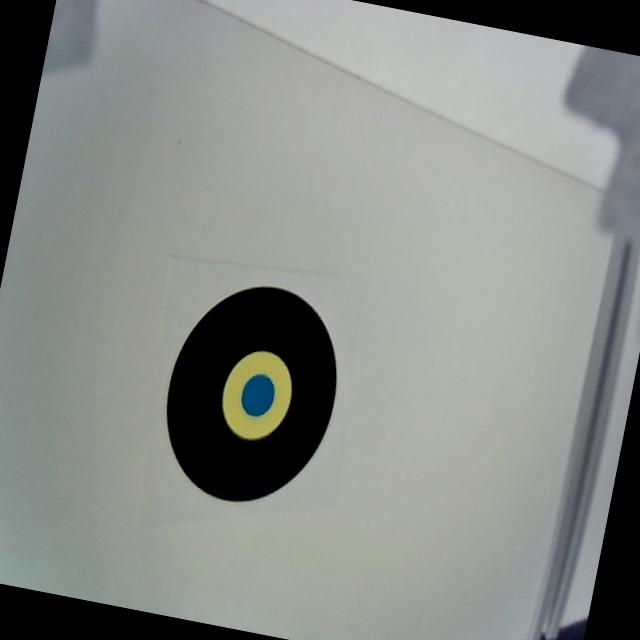cogn: (149, 268, 356, 519)
